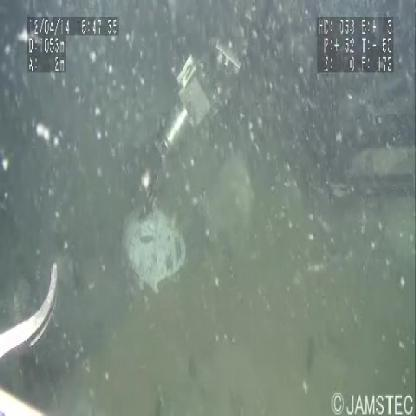Rác: (124, 207, 188, 301)
